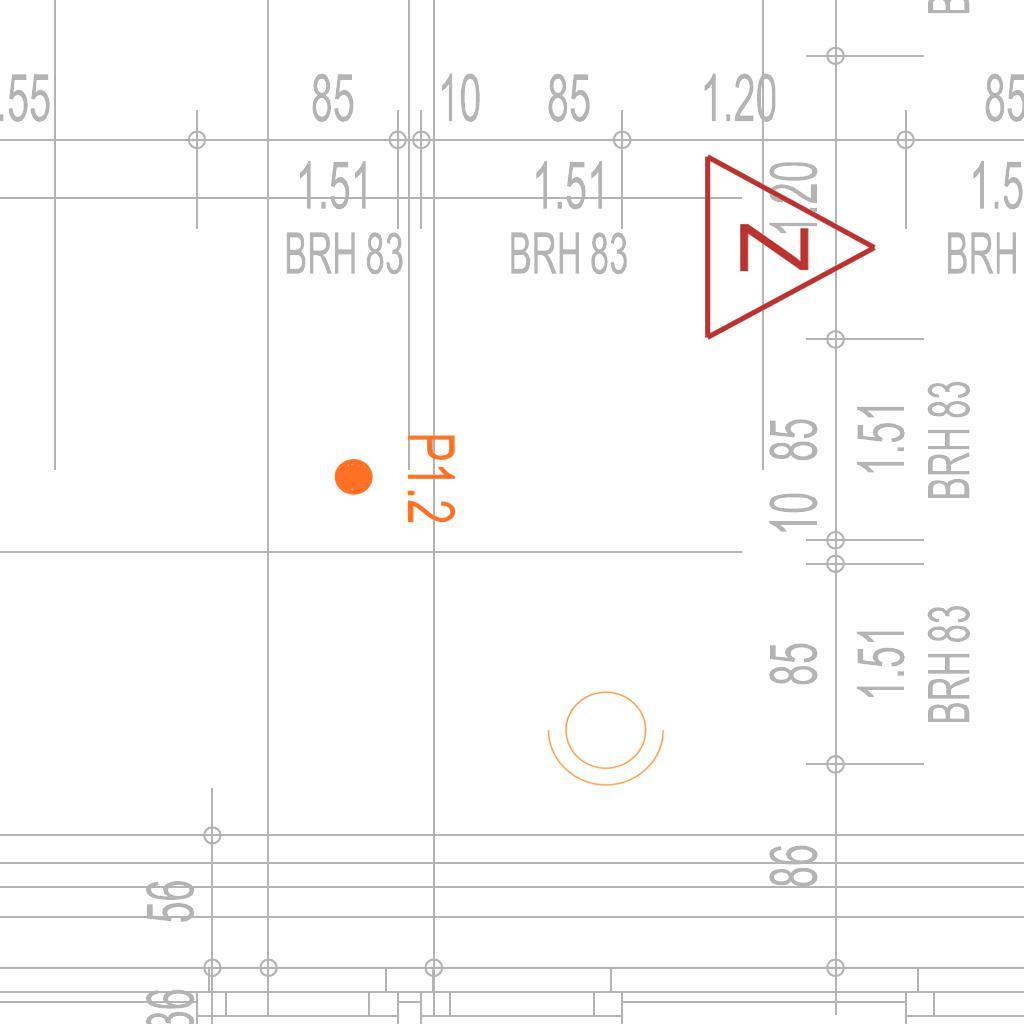Downlight_LED_Einbauleuchten_Flur: (331, 432, 459, 525)
Scheinwerfer_fuer_Alarmbeleuchtung: (543, 679, 675, 791)
Zimmersignalleuchte: (690, 147, 890, 343)
